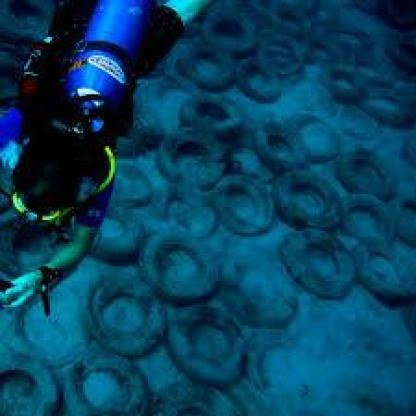tire: (93, 270, 194, 379), (179, 308, 259, 396), (209, 159, 288, 239), (133, 236, 222, 300), (281, 172, 342, 237), (185, 98, 238, 144)
